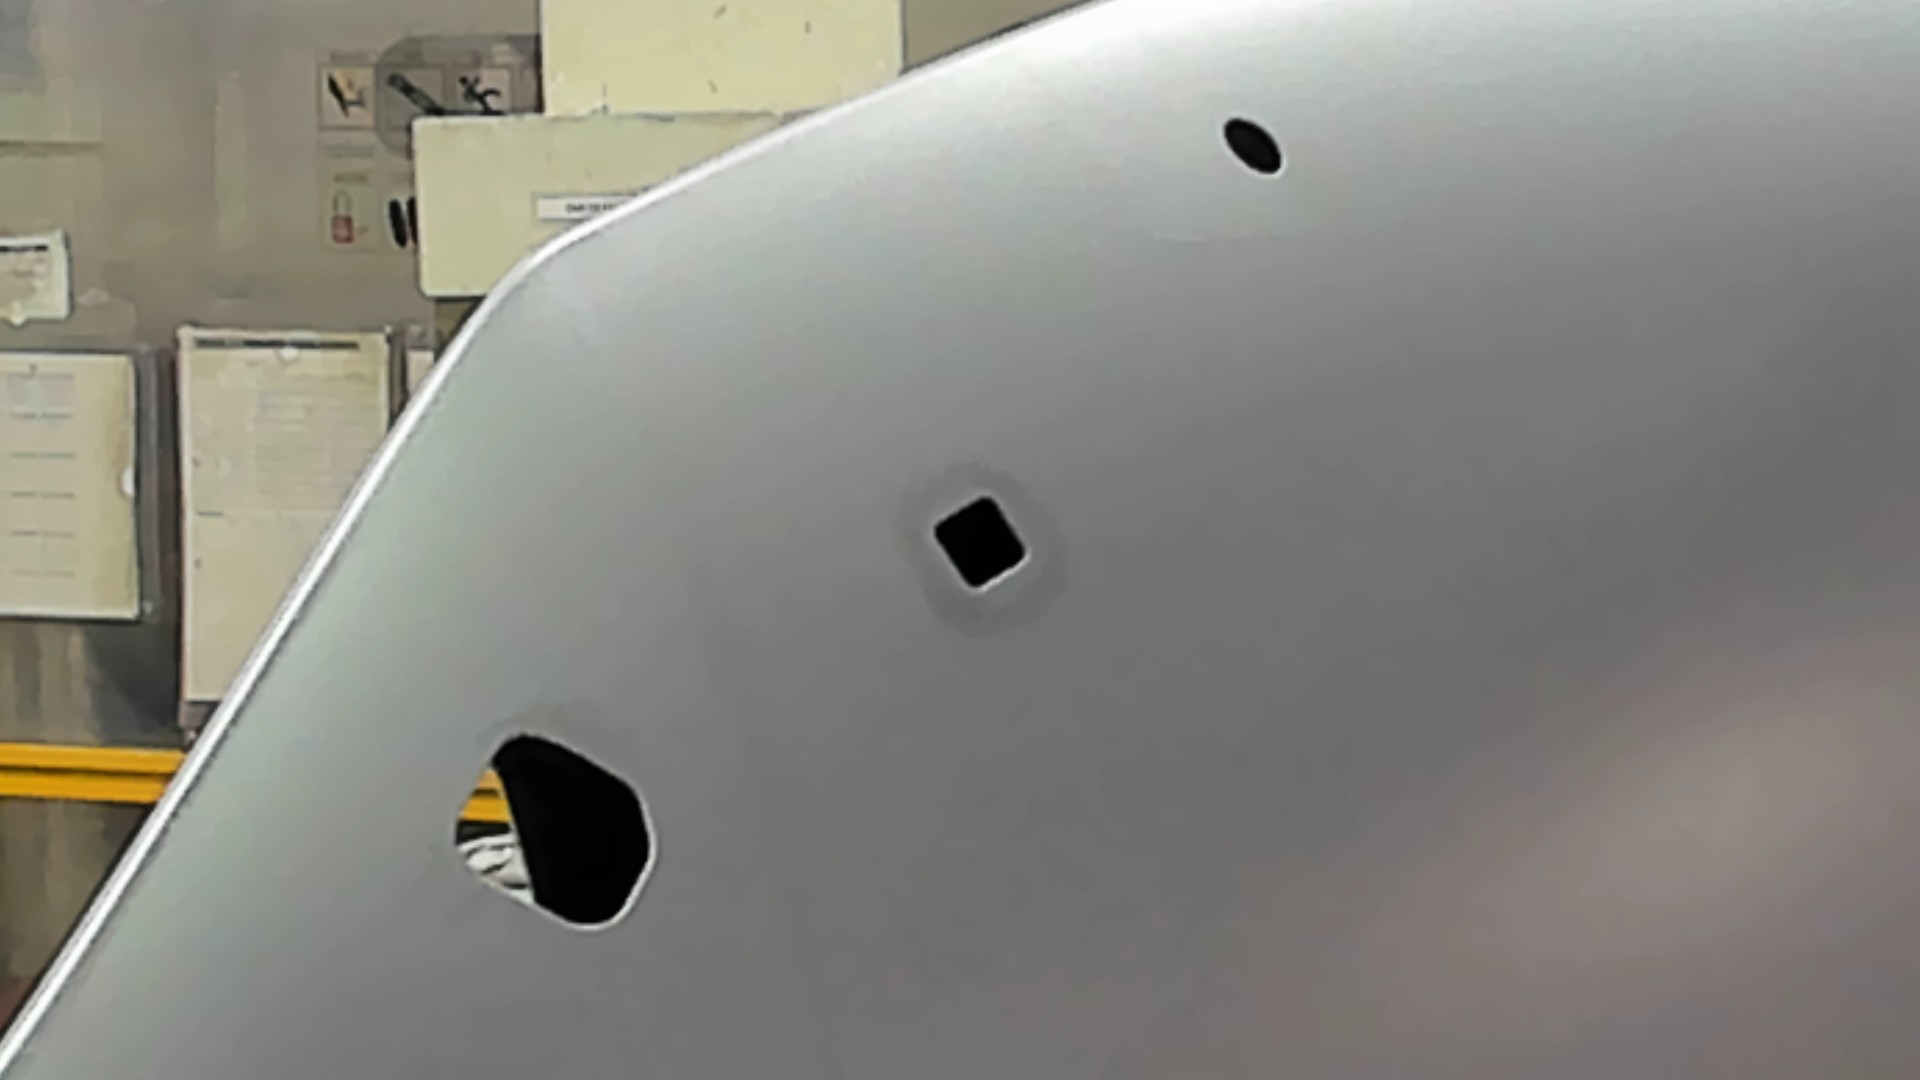chico: (1218, 113, 1286, 178)
grande: (448, 729, 661, 938)
mediano: (924, 488, 1034, 596)
